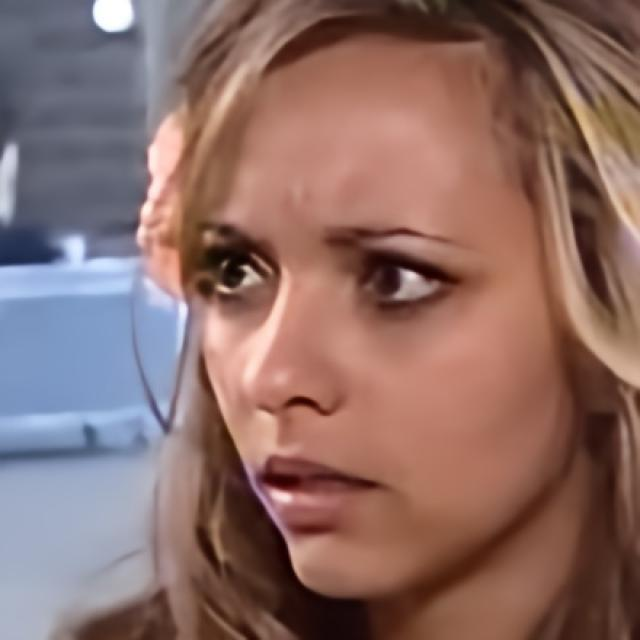fear: (190, 29, 564, 606)
